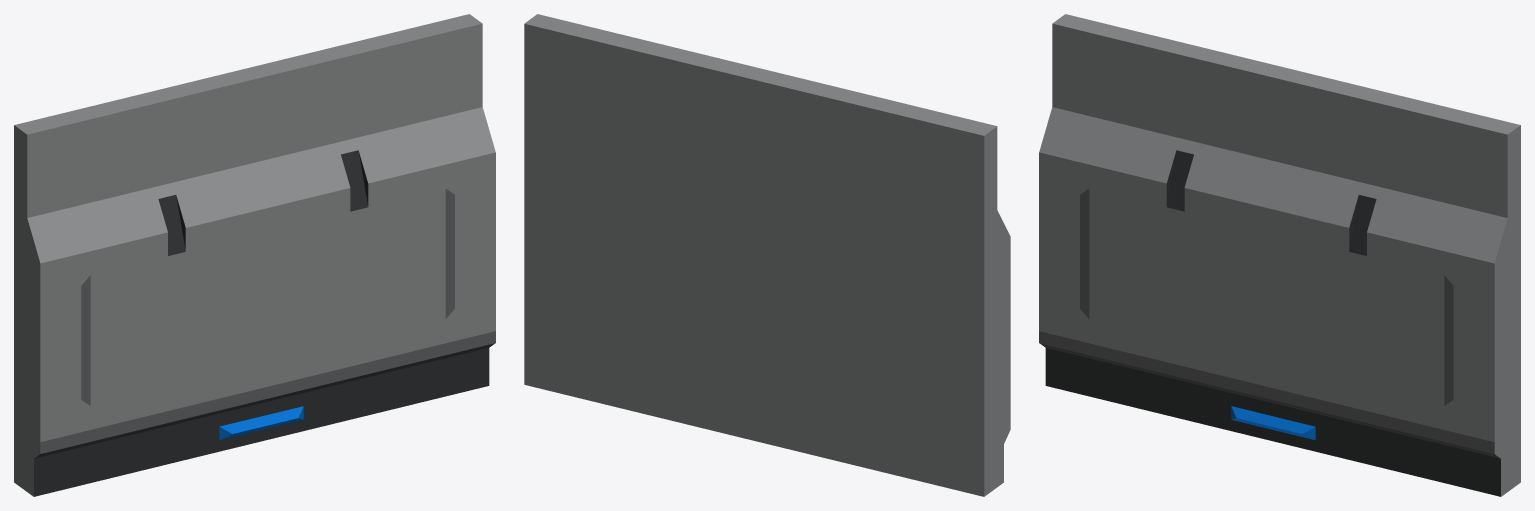
File: Wall_type_B_044.fbx
3 views of the same model, side by side, from view 1: azimuth 30°, elevation 25°; view 2: azimuth 150°, elevation 25°; view 3: azimuth 330°, elevation 25° (orthographic).
Visible parts, largest first — view 1: Wall_type_B_044; view 2: Wall_type_B_044; view 3: Wall_type_B_044.
Boxes of the visible parts, x1,y1,x2,y2 form: Wall_type_B_044: (14, 14, 495, 496); Wall_type_B_044: (524, 14, 1010, 496); Wall_type_B_044: (1039, 14, 1520, 496).
Bounding box in the file's own units: 200 × 20 × 150.
